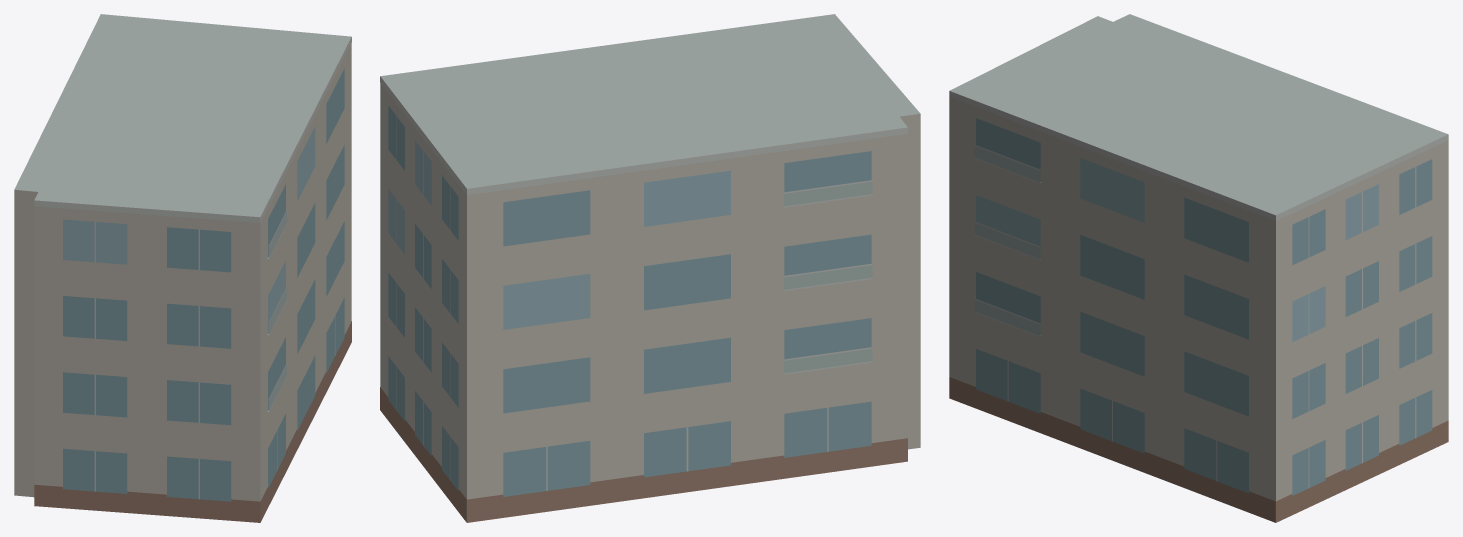
The model's file is survey-upis-32831239.glb.
3 views of the same model, side by side, from view 1: azimuth 30°, elevation 25°; view 2: azimuth 150°, elevation 25°; view 3: azimuth 270°, elevation 25° (orthographic). The views are drawn at different scales.
Parts seen in each view (by area): view 1: survey-upis-32831239.tmp; view 2: survey-upis-32831239.tmp; view 3: survey-upis-32831239.tmp.
Boxes of the visible parts, x1,y1,x2,y2 form: survey-upis-32831239.tmp: (14, 14, 351, 522); survey-upis-32831239.tmp: (380, 14, 920, 522); survey-upis-32831239.tmp: (949, 14, 1448, 522).
Bounding box in the file's own units: 17.98 × 12.8 × 18.84.
